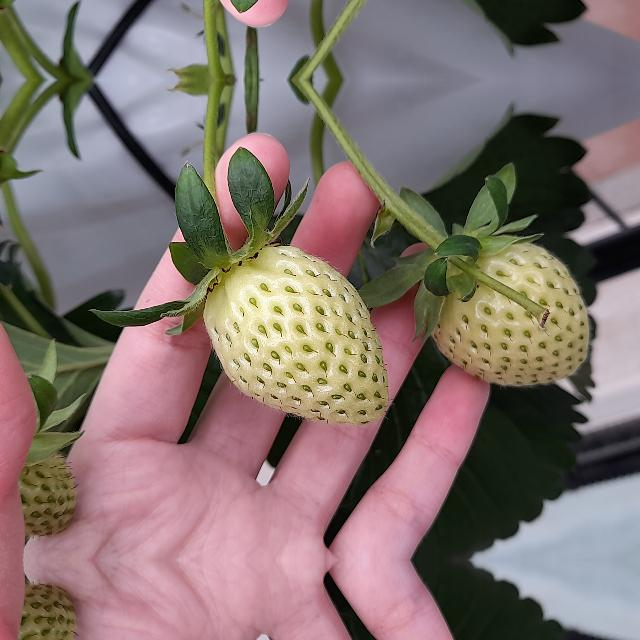Health_25: (202, 245, 388, 425), (418, 230, 588, 382), (1, 438, 76, 538), (1, 582, 76, 640)
